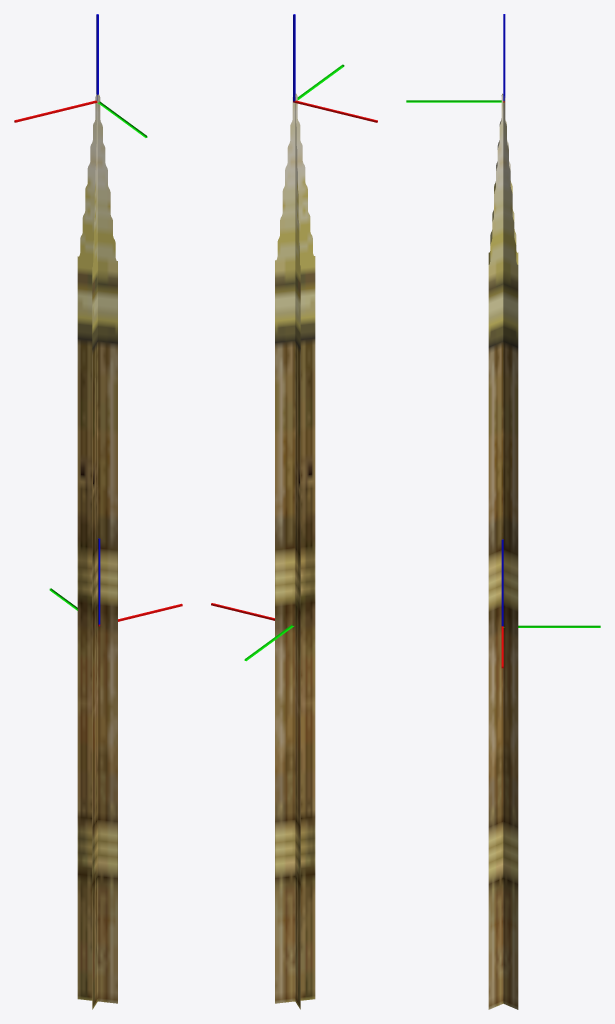
File: spear.glb
3 views of the same model, side by side, from view 1: azimuth 30°, elevation 25°; view 2: azimuth 150°, elevation 25°; view 3: azimuth 270°, elevation 25° (orthographic).
Visible parts, largest first — view 1: attachments a spear copperModel, Dummy_attachpoint, Dummy_hotspot; view 2: attachments a spear copperModel, Dummy_attachpoint, Dummy_hotspot; view 3: attachments a spear copperModel, Dummy_hotspot, Dummy_attachpoint.
Part boxes in pixels (bbox=[...]): attachments a spear copperModel: bbox=[77, 94, 117, 1009]; Dummy_attachpoint: bbox=[14, 14, 147, 137]; Dummy_hotspot: bbox=[49, 538, 182, 626]; attachments a spear copperModel: bbox=[275, 93, 315, 1009]; Dummy_attachpoint: bbox=[293, 14, 377, 122]; Dummy_hotspot: bbox=[211, 603, 293, 661]; attachments a spear copperModel: bbox=[488, 93, 518, 1009]; Dummy_hotspot: bbox=[501, 539, 600, 668]; Dummy_attachpoint: bbox=[406, 14, 505, 102].
Bounding box in the file's own units: 0.4973 × 2.81 × 0.5006.
Materials: 2 (1 with a texture image).
